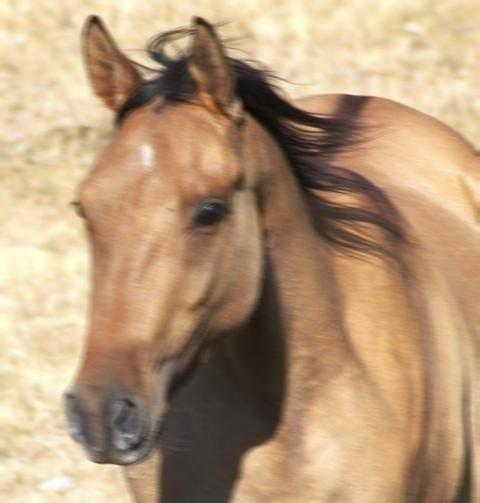horse: (61, 10, 480, 502)
